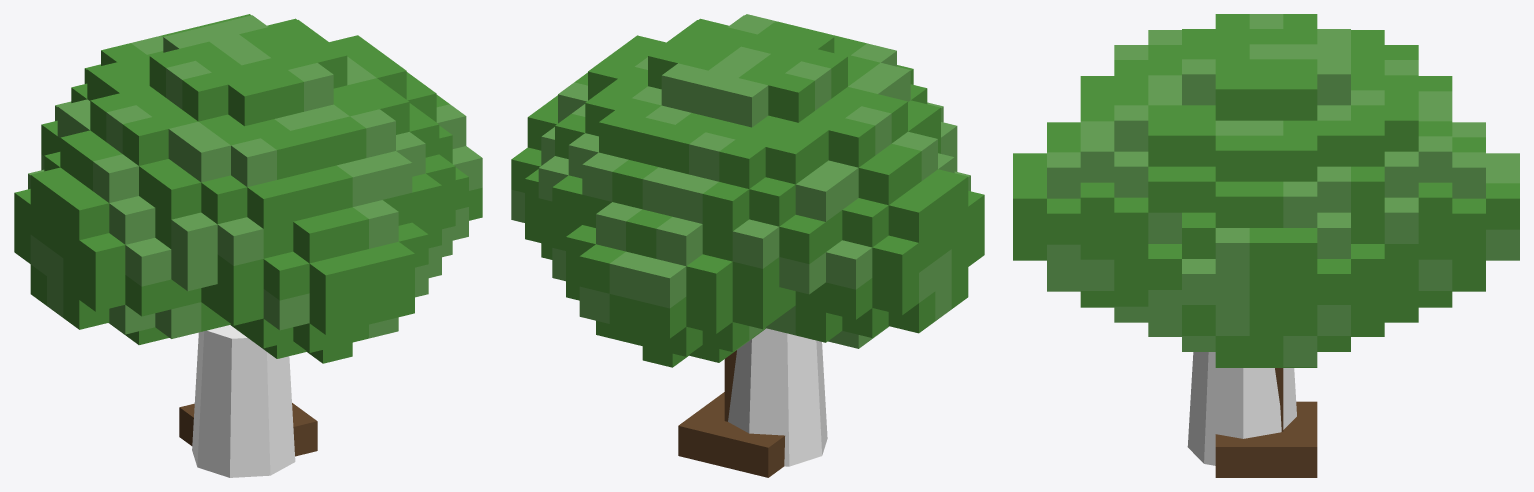
The model's file is arvore_verde_jovem.glb.
The picture shows the model from 3 angles, left to right: view 1: azimuth 30°, elevation 25°; view 2: azimuth 150°, elevation 25°; view 3: azimuth 270°, elevation 25°; orthographic projection. The views are drawn at different scales.
Visible parts, largest first — view 1: MidGrow_001_3, Colisao_006; view 2: MidGrow_001_3, Colisao_006; view 3: MidGrow_001_3, Colisao_006.
Boxes of the visible parts, bbox=[...] form: MidGrow_001_3: bbox=[14, 14, 482, 456]; Colisao_006: bbox=[192, 325, 295, 477]; MidGrow_001_3: bbox=[511, 14, 984, 477]; Colisao_006: bbox=[728, 328, 827, 466]; MidGrow_001_3: bbox=[1013, 14, 1519, 477]; Colisao_006: bbox=[1187, 352, 1296, 465].
Bounding box in the file's own units: 2.57 × 2.47 × 2.81.
